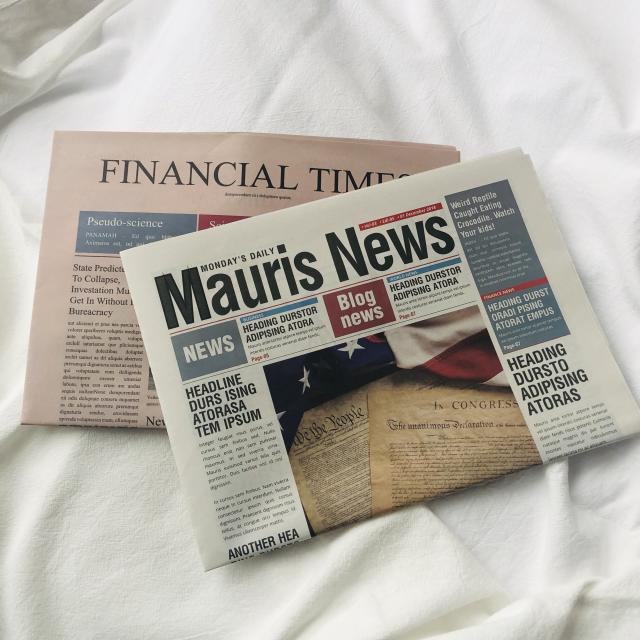newspaper: (27, 126, 640, 561)
